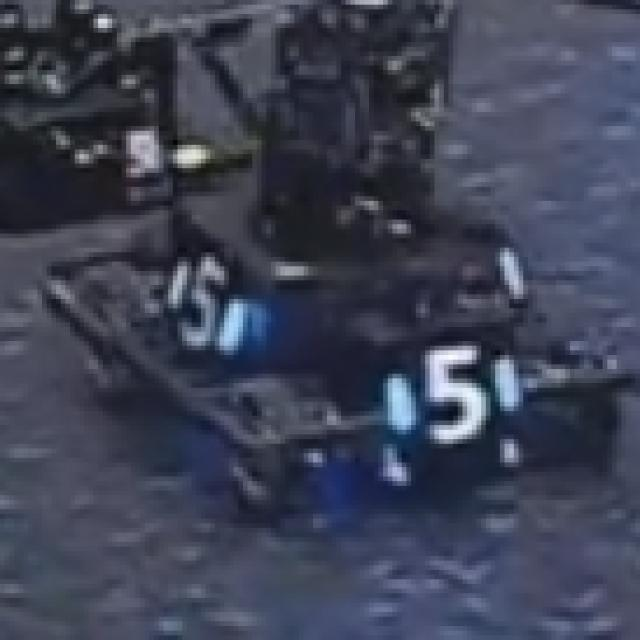B5: (383, 327, 528, 444), (168, 248, 248, 355)
